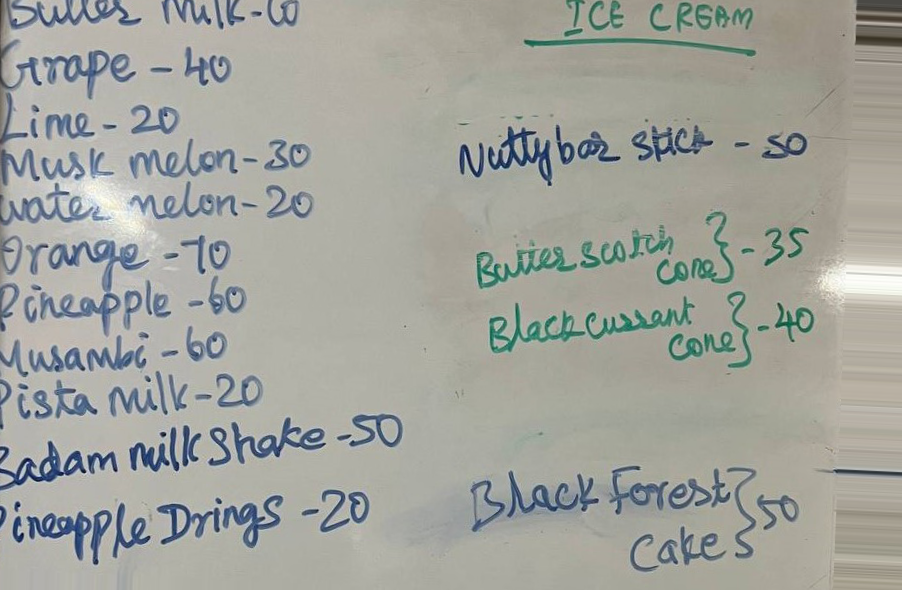badam milkshake - 50: (1, 423, 406, 492)
black current cone - 40: (486, 291, 817, 370)
black forest cake - 50: (465, 459, 809, 580)
butter milk - 10: (1, 1, 320, 35)
butterscotch cone - 35: (473, 208, 816, 291)
grape - 40: (1, 37, 244, 100)
lime - 20: (1, 95, 185, 141)
musambi - 60: (1, 328, 233, 374)
musk melon - 30: (1, 135, 319, 185)
nutty bar - 30: (453, 121, 822, 185)
orange - 70: (1, 231, 236, 277)
pineapple - 60: (1, 277, 248, 327)
pineapple drink - 20: (1, 494, 378, 556)
pista milk - 20: (1, 372, 273, 423)
water melon - 20: (1, 183, 318, 225)
